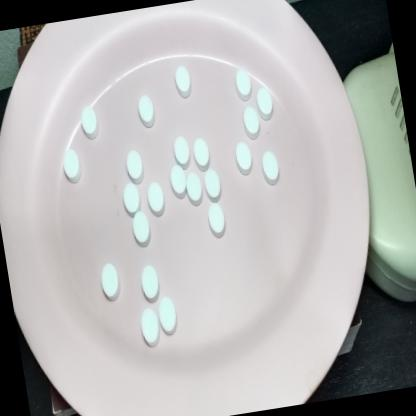Paracetamol: (56, 142, 85, 187), (136, 304, 164, 350), (156, 294, 183, 340), (96, 260, 124, 304), (137, 260, 163, 303), (258, 148, 284, 189), (200, 166, 226, 207), (204, 202, 229, 244), (75, 100, 101, 140), (118, 178, 144, 218), (134, 90, 158, 132), (231, 62, 256, 102), (145, 180, 168, 223), (254, 84, 278, 124), (189, 132, 213, 172), (232, 139, 256, 179), (166, 162, 190, 202), (182, 169, 206, 209), (130, 209, 153, 250), (171, 60, 194, 101), (170, 132, 193, 172), (122, 146, 146, 184), (240, 103, 262, 144)
